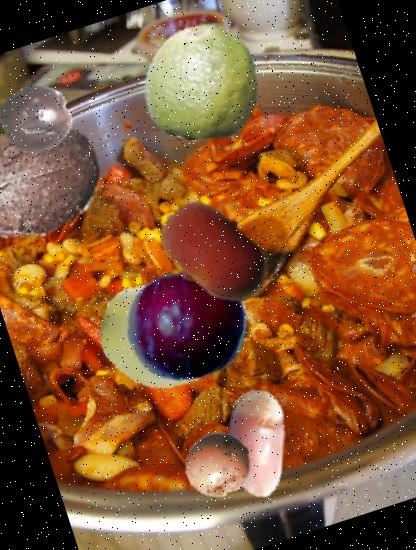Cocos: (0, 91, 124, 269)
Granadilla: (176, 422, 260, 507)
Grape: (84, 260, 239, 414)
Hazelnut: (187, 374, 326, 513)
Limes: (127, 6, 280, 158)
Nectarine: (139, 179, 288, 328)
Passion: (0, 72, 82, 164)
Plum: (110, 248, 264, 402)
